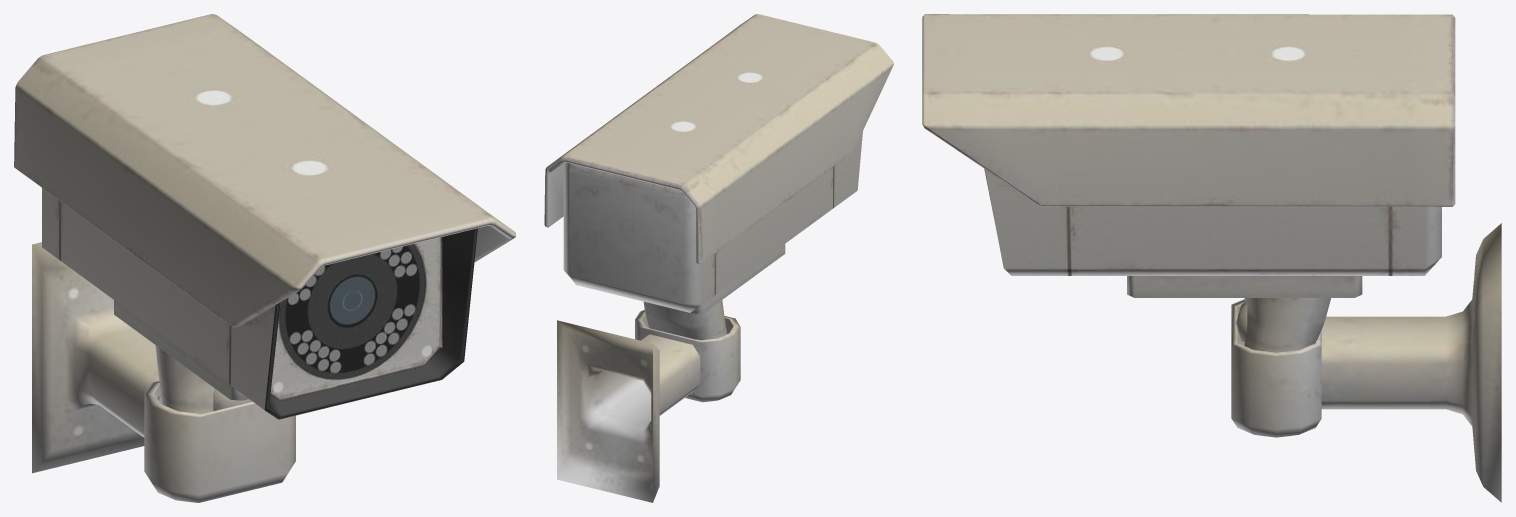
File: camera.glb
3 renders of one model, left to right at view 1: azimuth 30°, elevation 25°; view 2: azimuth 150°, elevation 25°; view 3: azimuth 270°, elevation 25°, orthographic. The views are drawn at different scales.
Visible parts, largest first — view 1: g; view 2: g; view 3: g.
Part boxes in pixels (x1=…): g: x1=14, y1=14, x2=515, y2=502; g: x1=544, y1=14, x2=893, y2=502; g: x1=922, y1=14, x2=1501, y2=502.
Bounding box in the file's own units: 0.8521 × 1.59 × 2.
1 material, 1 textured.
